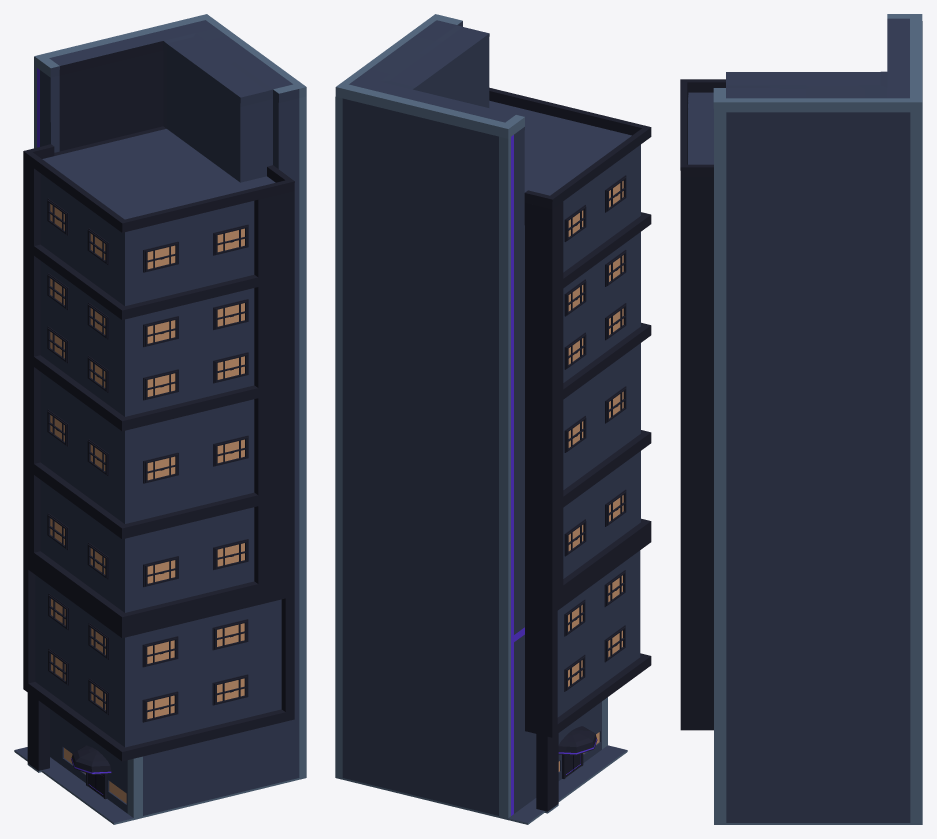
The model's file is Building_Skyscraper02.fbx.
3 renders of one model, left to right at view 1: azimuth 30°, elevation 25°; view 2: azimuth 150°, elevation 25°; view 3: azimuth 270°, elevation 25°, orthographic. The views are drawn at different scales.
Visible parts, largest first — view 1: Cube.446, Cylinder.340; view 2: Cube.446, Cylinder.340; view 3: Cube.446.
Boxes of the visible parts, <box> form: Cube.446: <box>14,14,306,824</box>; Cylinder.340: <box>71,745,111,774</box>; Cube.446: <box>335,14,651,824</box>; Cylinder.340: <box>558,726,597,755</box>; Cube.446: <box>680,14,922,824</box>.
Size of the model in its own units: 1280 by 4220 by 1282.
